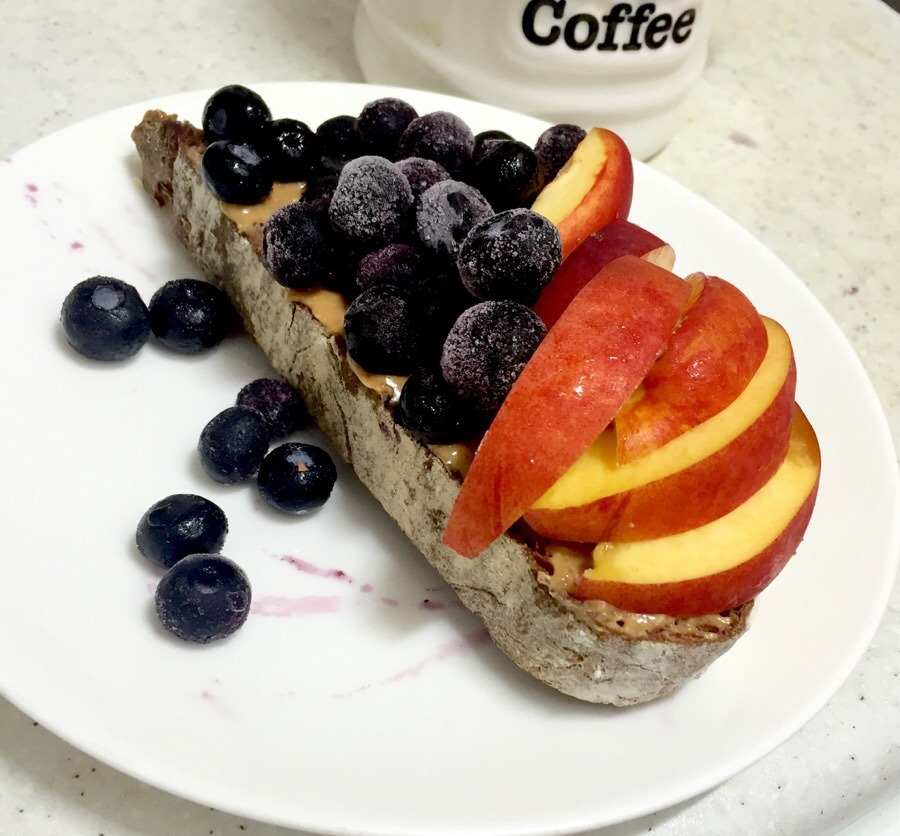slice of bread: (111, 117, 717, 715)
